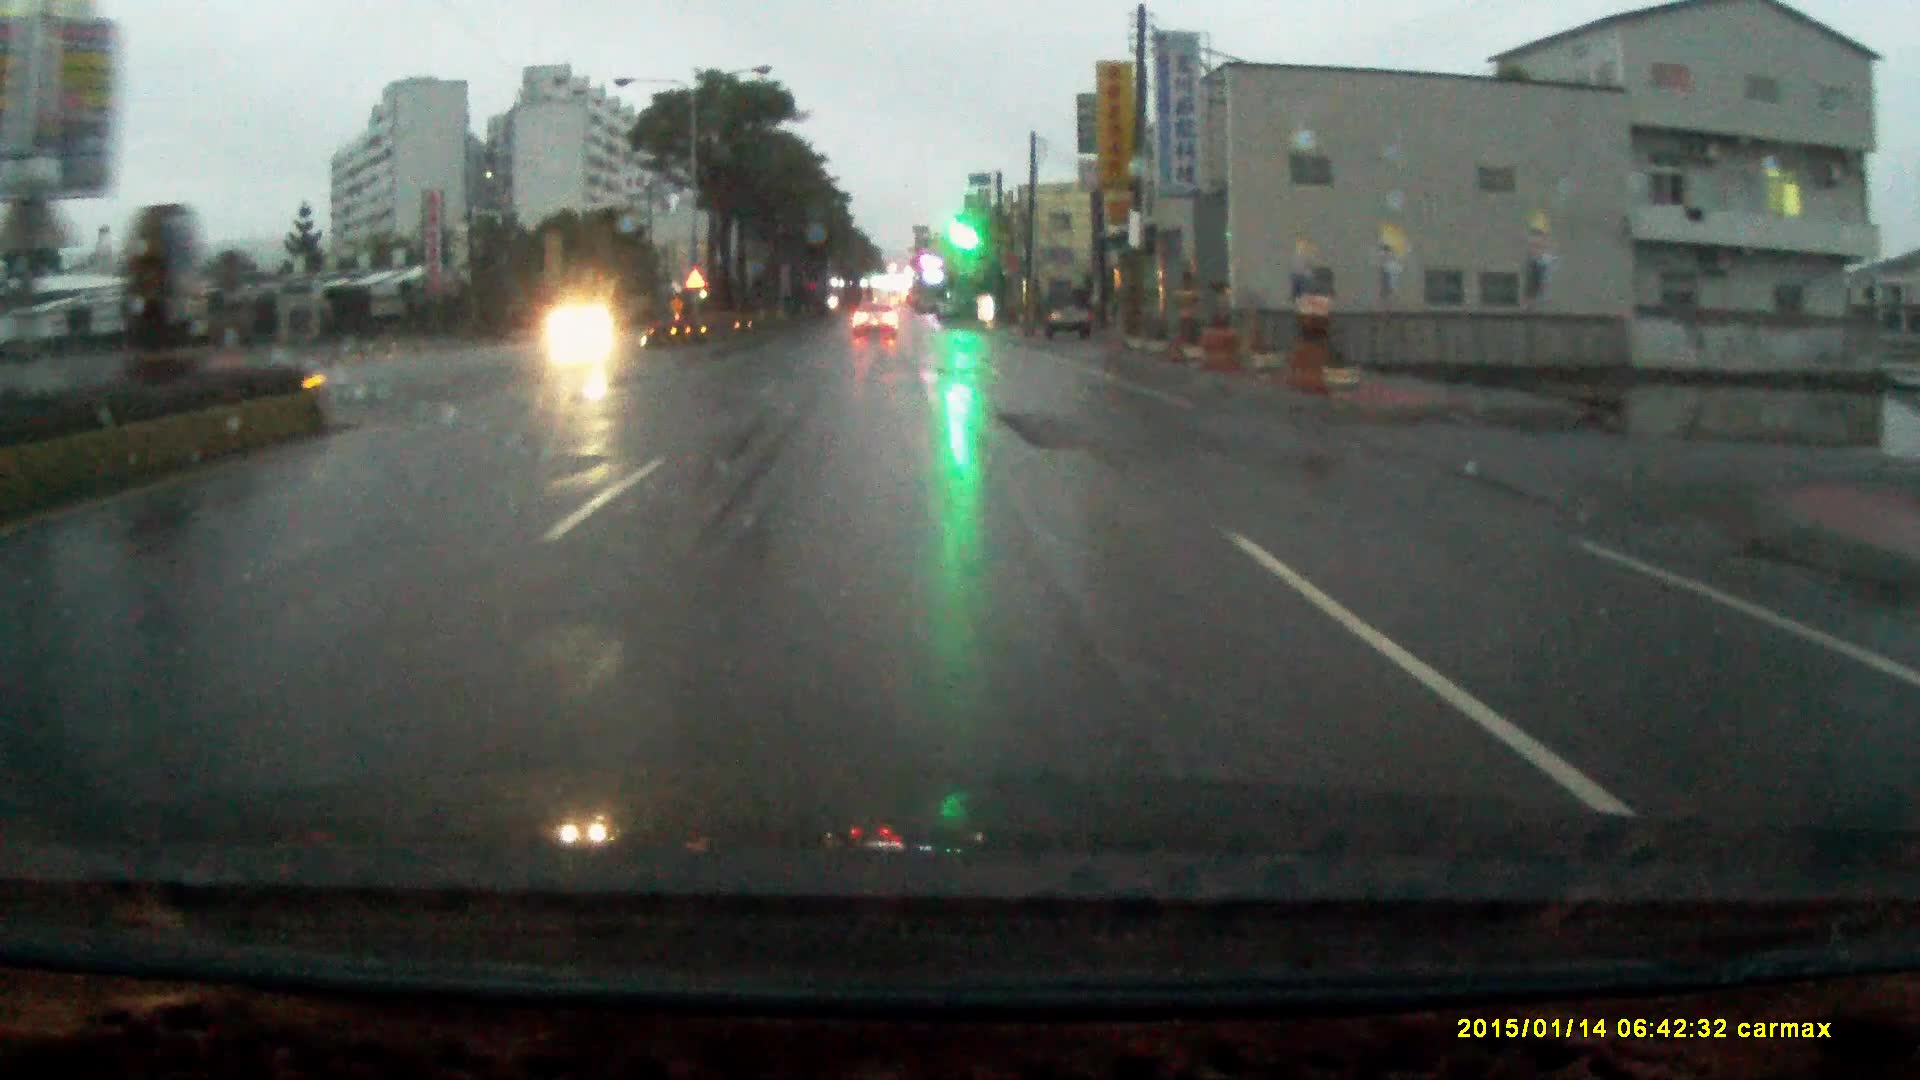vehicle: (1047, 287, 1098, 342), (851, 302, 899, 338)
